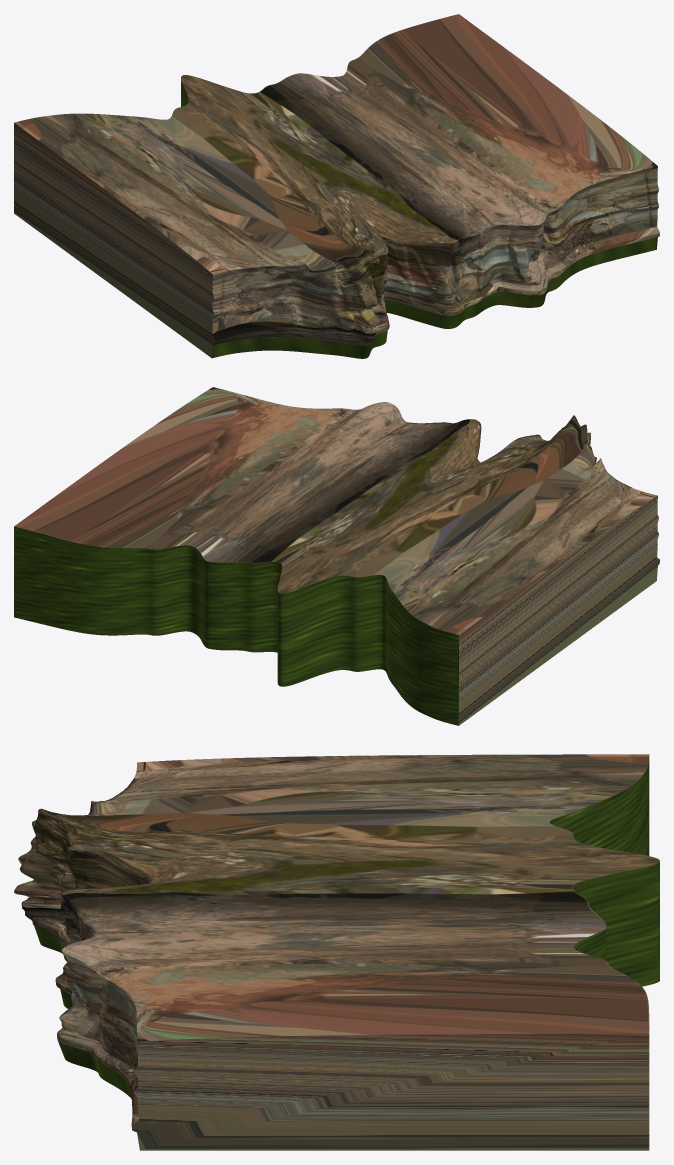
Rendered from hero-cliff.glb.
3 renders of one model, top to bottom at view 1: azimuth 30°, elevation 25°; view 2: azimuth 150°, elevation 25°; view 3: azimuth 270°, elevation 25°, orthographic. The views are drawn at different scales.
Visible parts, largest first — view 1: Cliff C8 B | joinable coastal segment; view 2: Cliff C8 B | joinable coastal segment; view 3: Cliff C8 B | joinable coastal segment.
Part boxes in pixels (bbox=[...]): Cliff C8 B | joinable coastal segment: bbox=[14, 14, 659, 358]; Cliff C8 B | joinable coastal segment: bbox=[14, 387, 659, 725]; Cliff C8 B | joinable coastal segment: bbox=[14, 754, 659, 1150].
Size of the model in its own units: 40 by 9.23 by 39.09.
Materials: 2 (2 with a texture image).
